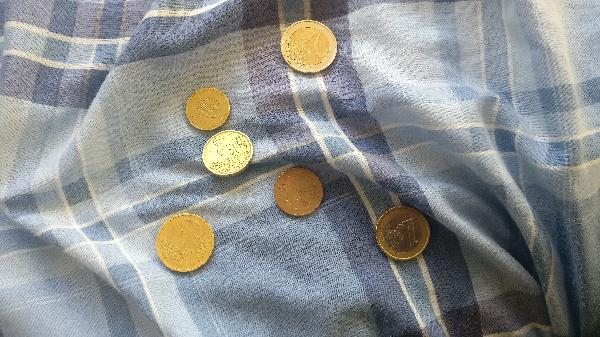Fifty Cent: (154, 211, 217, 270)
Five Cent: (274, 164, 331, 222)
One Euro: (377, 206, 432, 261)
Ten Cent: (184, 87, 235, 129)
Twenty Cent: (202, 128, 253, 178)
Two Euro: (281, 19, 335, 72)
